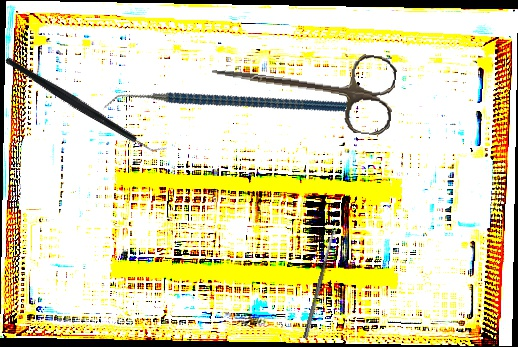Chopper: (102, 18, 349, 194), (4, 14, 169, 196)
Iris Scissors: (206, 36, 399, 137)
Surgical Spoon: (302, 227, 338, 340)
